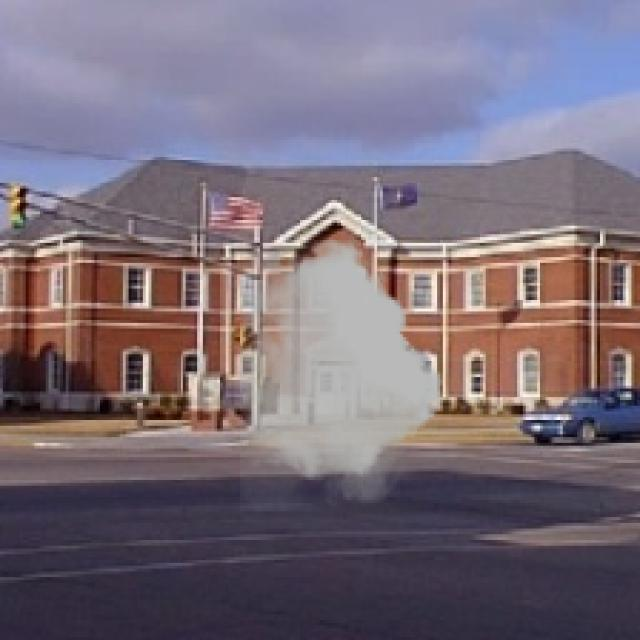smoke: (240, 234, 443, 512)
